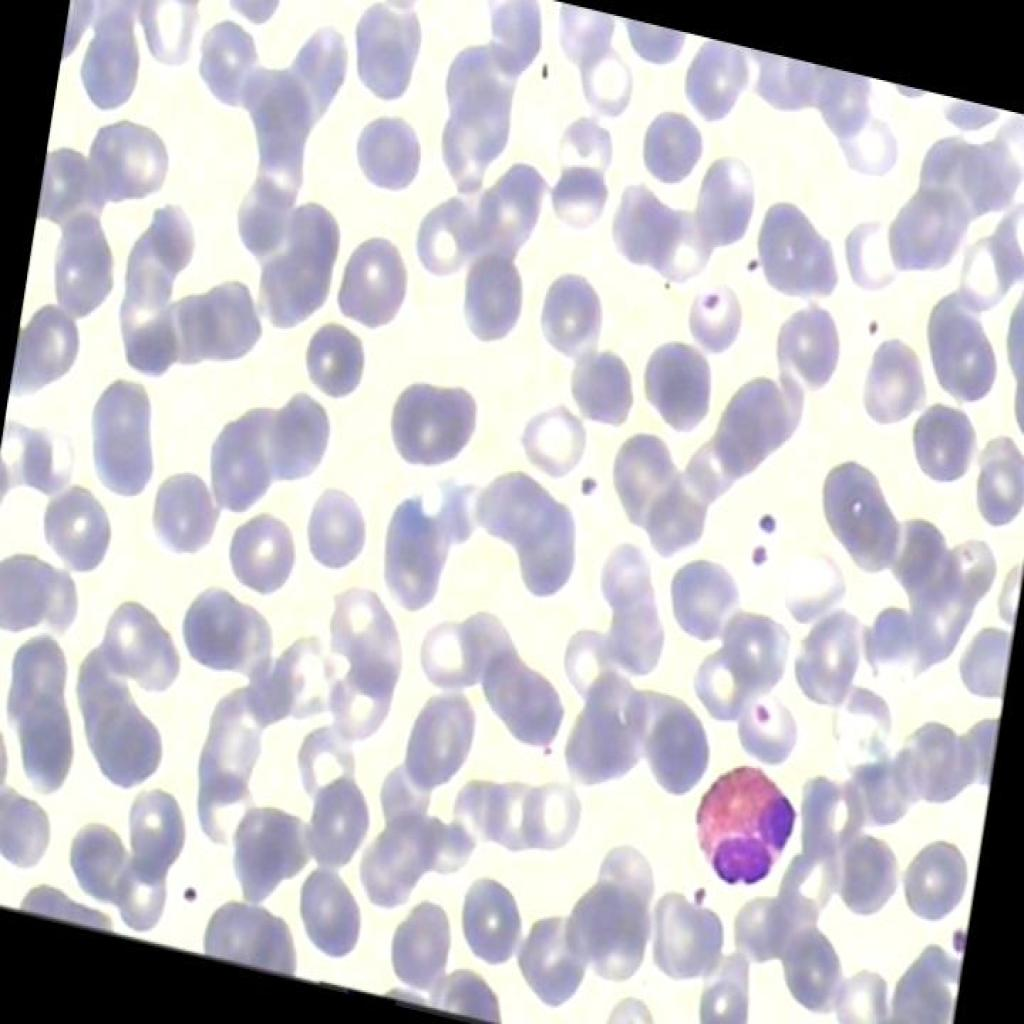Eosinofil: (677, 734, 811, 896)
Platelet: (678, 866, 721, 924), (930, 908, 970, 969), (854, 297, 894, 350), (687, 279, 730, 325), (570, 445, 603, 503), (750, 498, 790, 535), (744, 538, 772, 572), (738, 246, 764, 276), (175, 884, 200, 906), (752, 697, 772, 723)
